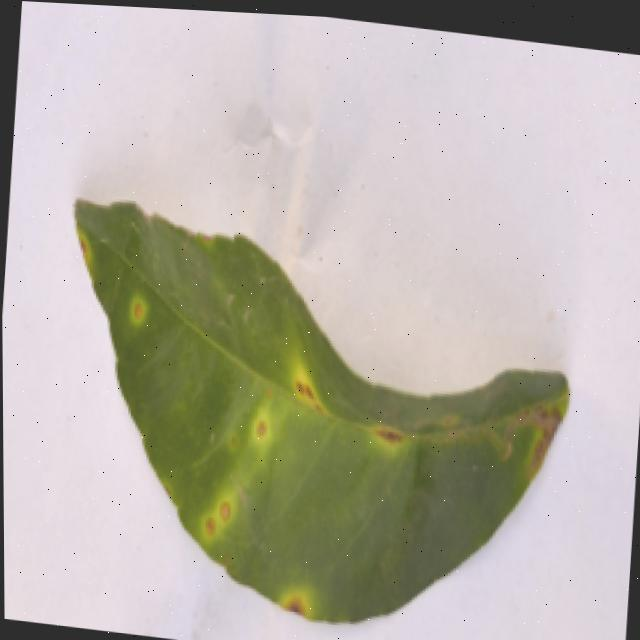canker: (78, 199, 566, 620), (268, 359, 422, 461), (487, 391, 585, 468), (182, 478, 254, 562), (265, 593, 329, 633), (120, 285, 165, 337), (245, 398, 282, 451)
